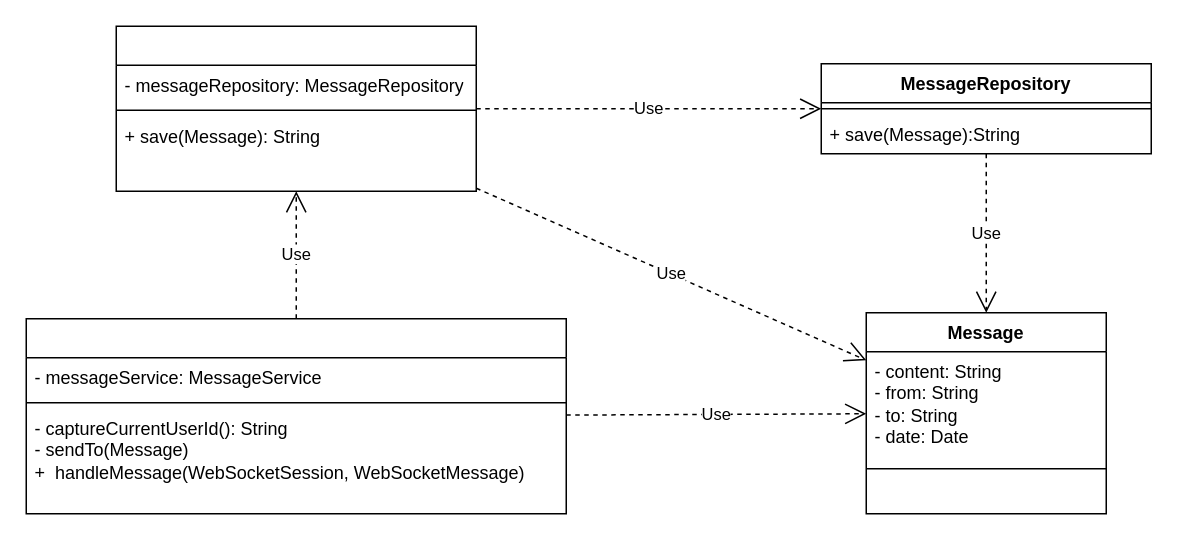
This 1178x545 diagram has some shape labels left out. Here are the shapes that lost their labels. From the top down, the box of each, then its label:
(115, 25, 476, 191): MessageService
(25, 317, 566, 514): IncomingMessageHandler
